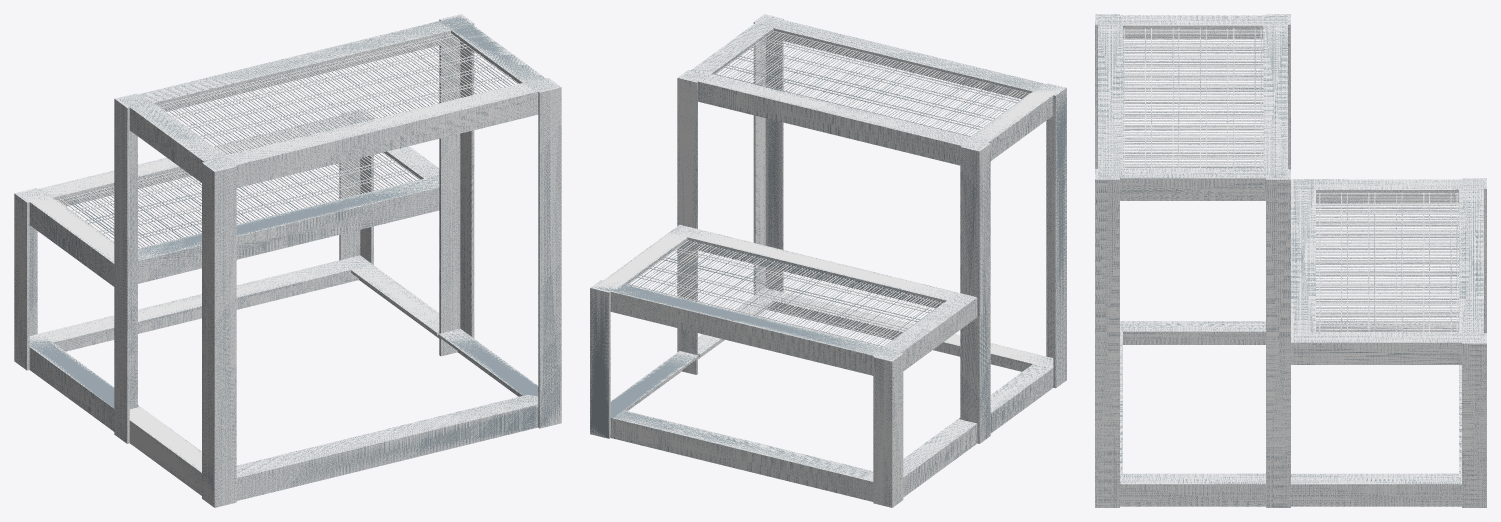
File: escada 2 degraus.fbx
The picture shows the model from 3 angles, left to right: view 1: azimuth 30°, elevation 25°; view 2: azimuth 150°, elevation 25°; view 3: azimuth 270°, elevation 25°; orthographic projection. The views are drawn at different scales.
Parts seen in each view (by area): view 1: Group18, Group14, Group12, Group19, Group11, Group17, Group20, Group13, Group5, Group15, Group10, Group6 (+8 smaller); view 2: Group255, Group13, Group20, Group5, Group18, Group17, Group19, Group14, Group11, Group8, Group12, Group16 (+8 smaller); view 3: Group11, Group17, Group4, Group9, Group7, Group2, Group16, Group14, Group13, Group19, Group255, Group15 (+7 smaller).
Part boxes in pixels (box(x1,y1,x2,y2)): Group18: box(202, 162, 236, 507); Group14: box(203, 81, 557, 187); Group12: box(236, 394, 538, 500); Group19: box(105, 175, 439, 283); Group11: box(439, 14, 474, 356); Group17: box(538, 78, 561, 428); Group20: box(114, 93, 137, 443); Group13: box(120, 16, 471, 111); Group5: box(29, 255, 372, 351); Group15: box(18, 188, 114, 286); Group10: box(119, 94, 237, 182); Group6: box(29, 338, 138, 431); Group255: box(595, 284, 901, 375); Group13: box(682, 69, 988, 165); Group20: box(960, 143, 990, 443); Group5: box(610, 410, 873, 501); Group18: box(1046, 83, 1066, 388); Group17: box(753, 14, 783, 294); Group19: box(669, 224, 977, 317); Group14: box(759, 16, 1061, 98); Group11: box(677, 70, 697, 374); Group8: box(873, 353, 903, 507); Group12: box(761, 289, 1053, 371); Group16: box(590, 280, 610, 438); Group11: box(1266, 169, 1290, 507); Group17: box(1095, 169, 1119, 507); Group4: box(1294, 332, 1483, 364); Group9: box(1291, 473, 1461, 506); Group7: box(1098, 167, 1287, 200); Group2: box(1120, 473, 1265, 506); Group16: box(1462, 333, 1486, 507); Group14: box(1098, 15, 1122, 178); Group13: box(1263, 15, 1287, 180); Group19: box(1291, 179, 1315, 364); Group255: box(1459, 179, 1483, 344); Group15: box(1294, 179, 1483, 203).
Size of the model in its own units: 400 by 370 by 400.
